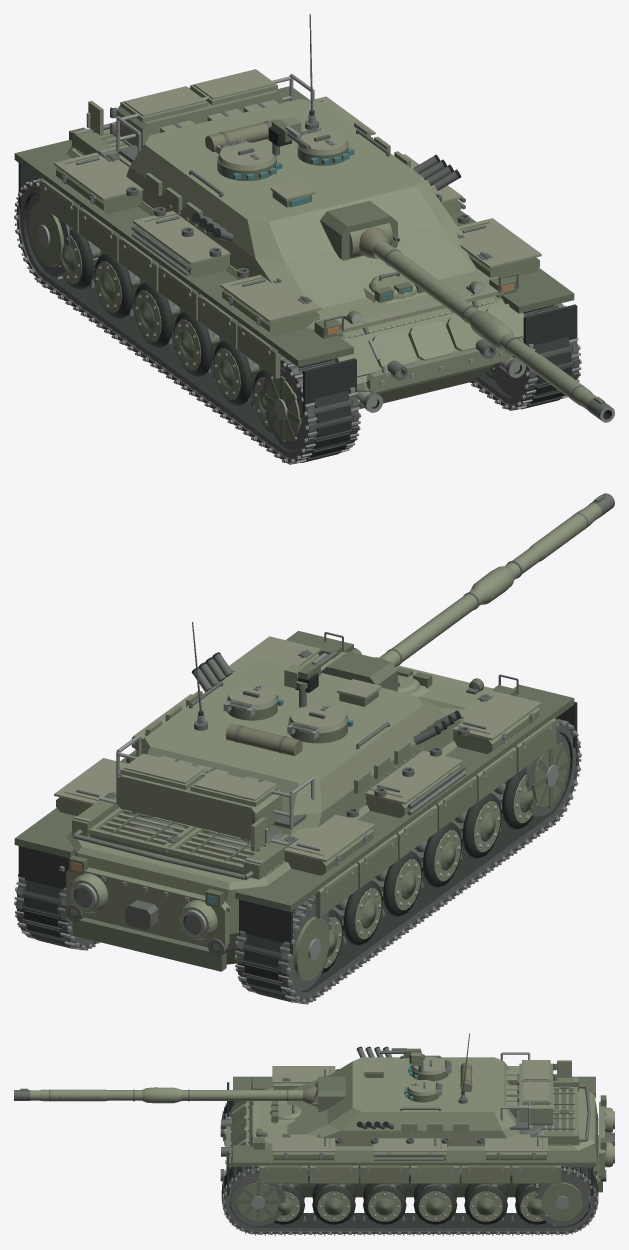
The model's file is spheres-tank-destroyer.glb.
The picture shows the model from 3 angles, top to bottom: view 1: azimuth 30°, elevation 25°; view 2: azimuth 150°, elevation 25°; view 3: azimuth 270°, elevation 25°; orthographic projection. The views are drawn at different scales.
Visible parts, largest first — view 1: Spheres tank destroyer; view 2: Spheres tank destroyer; view 3: Spheres tank destroyer.
Part boxes in pixels (x1,y1,x2,y2): Spheres tank destroyer: (14,14,614,464); Spheres tank destroyer: (14,493,614,1004); Spheres tank destroyer: (14,1033,614,1235).
Size of the model in its own units: 3.83 by 3.6 by 11.
